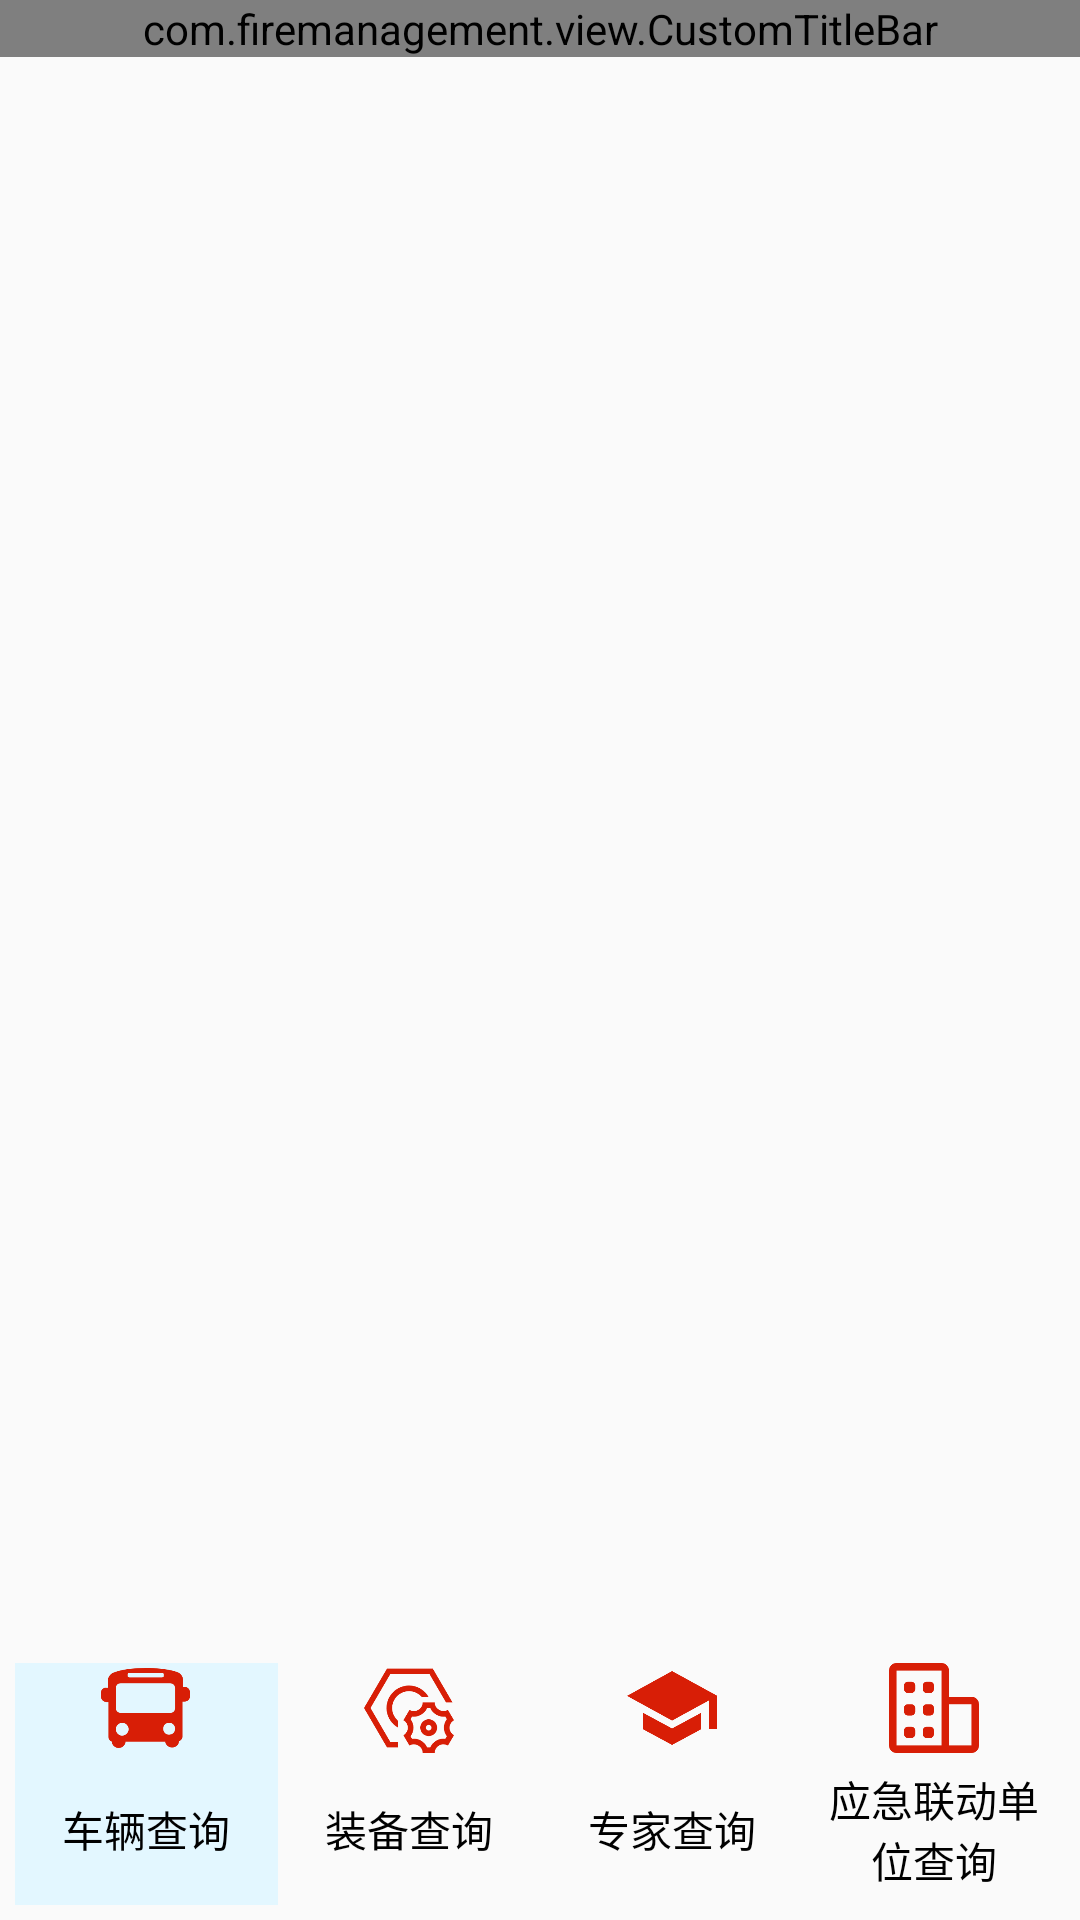

Screen size 1080 × 1920. Icon name, then its box in pixels as Rect(x1, y1, x2, y2):
cheliang: Rect(101, 1668, 190, 1748)
